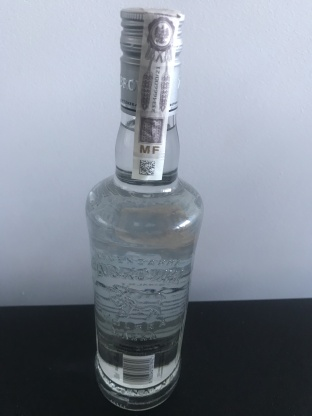nakretka: (117, 2, 187, 119)
